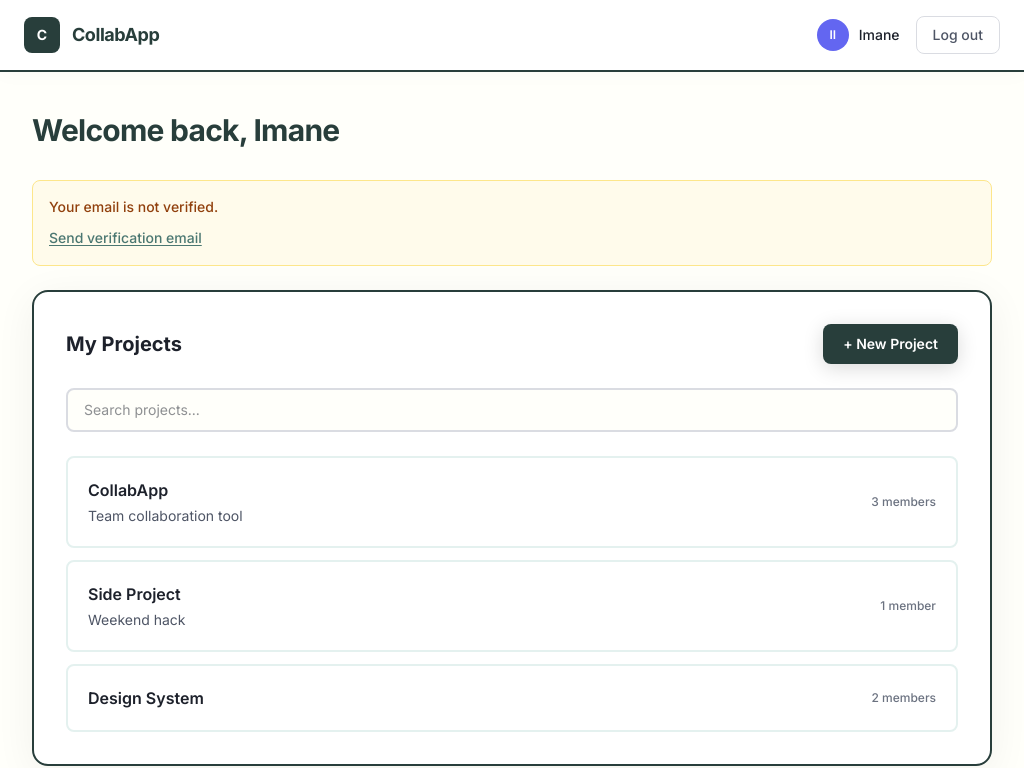
Test: DashboardPage › searches projects
Expected: the heading "Side Project" is shown, [88,584,181,604]
In the field with placeholder "Search projects...": (512, 410) [66,388,958,432], type "collab"
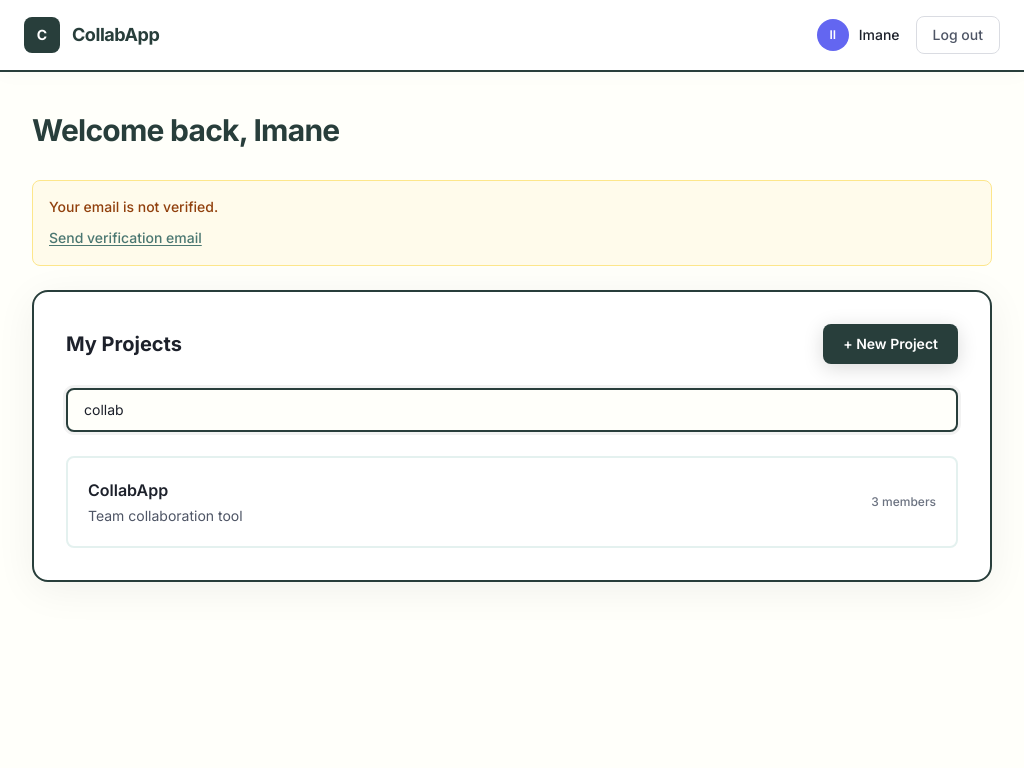
Expected: the button "Side Project" is gone
